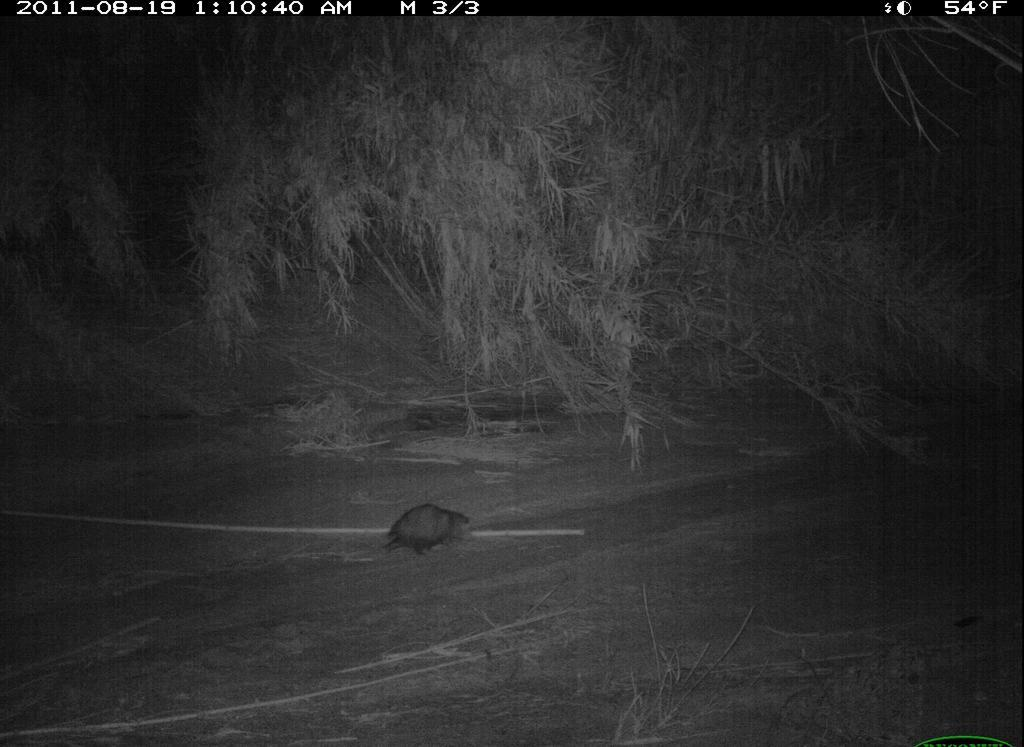opossum: (351, 489, 484, 566)
